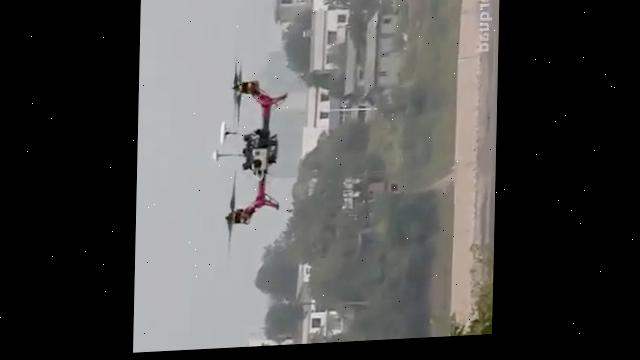drone: (209, 54, 291, 262)
